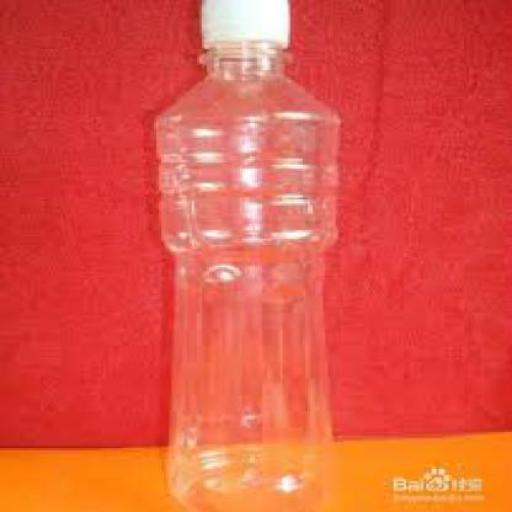plastic: (151, 0, 341, 511), (196, 0, 288, 48)
